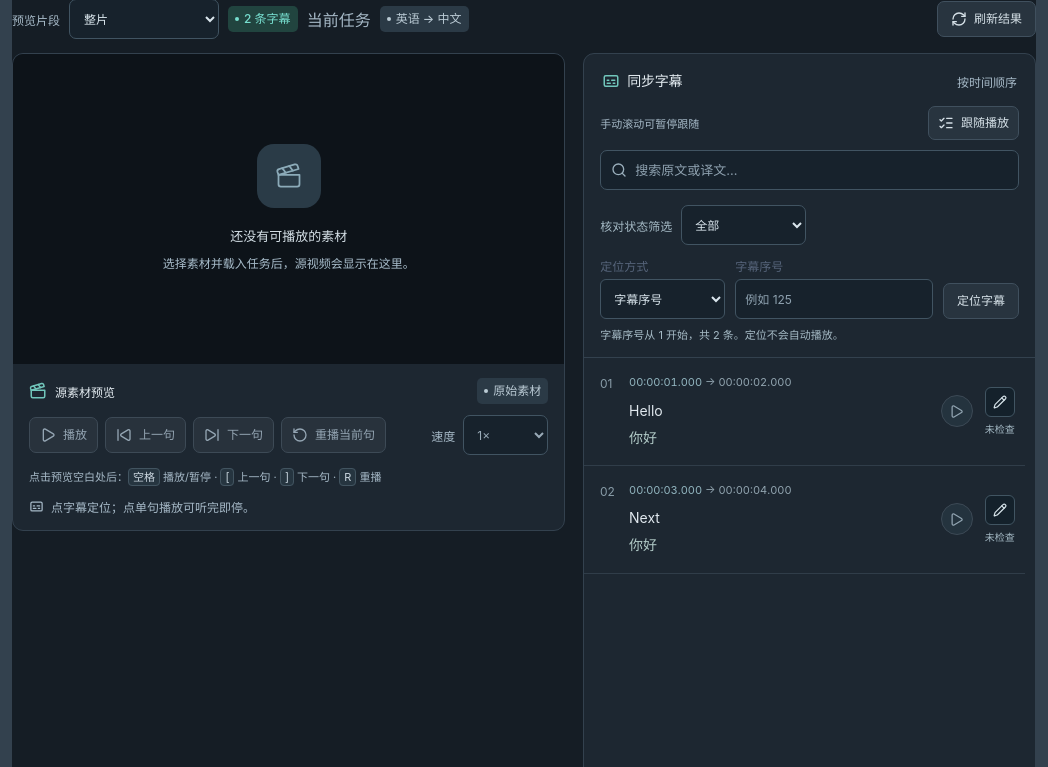
Test: compact review writes in the editor › requests one cue and advances only after the successful receipt
The image size is (1048, 767).
Click the button named "编辑第 1 句": [1000, 402] box [985,386,1015,416]
(page scrolled)
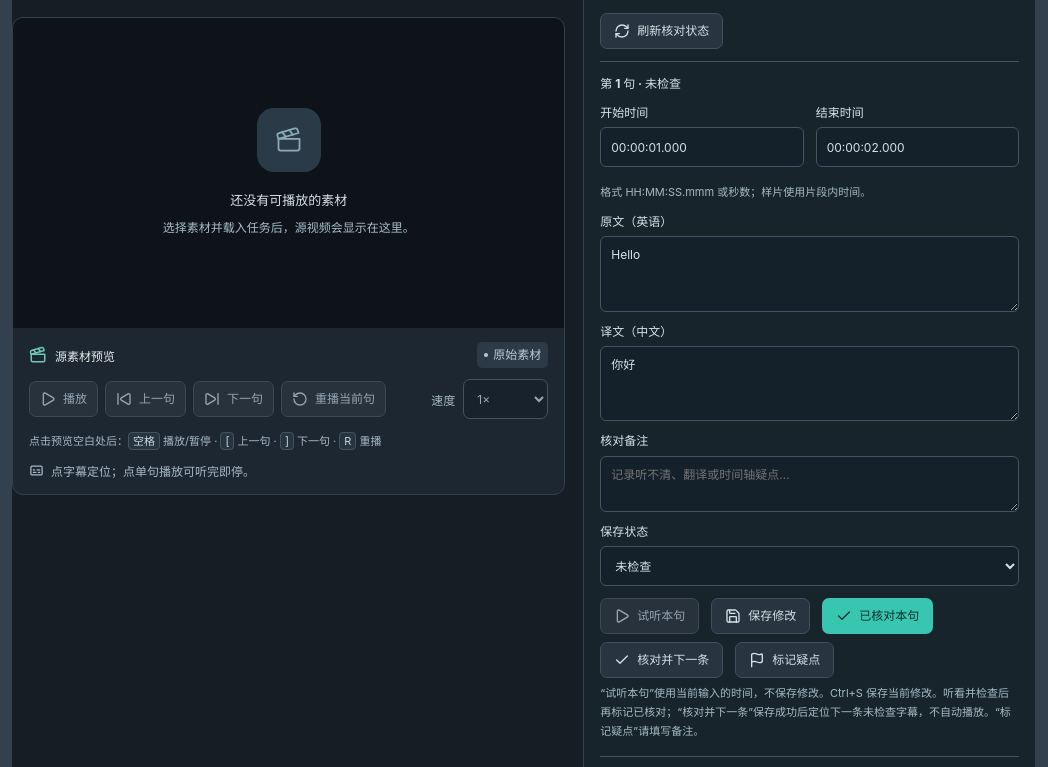
Replace the text in the text box labelled "译文（中文）" with "已修改": [810, 384] box [600,346,1019,422]
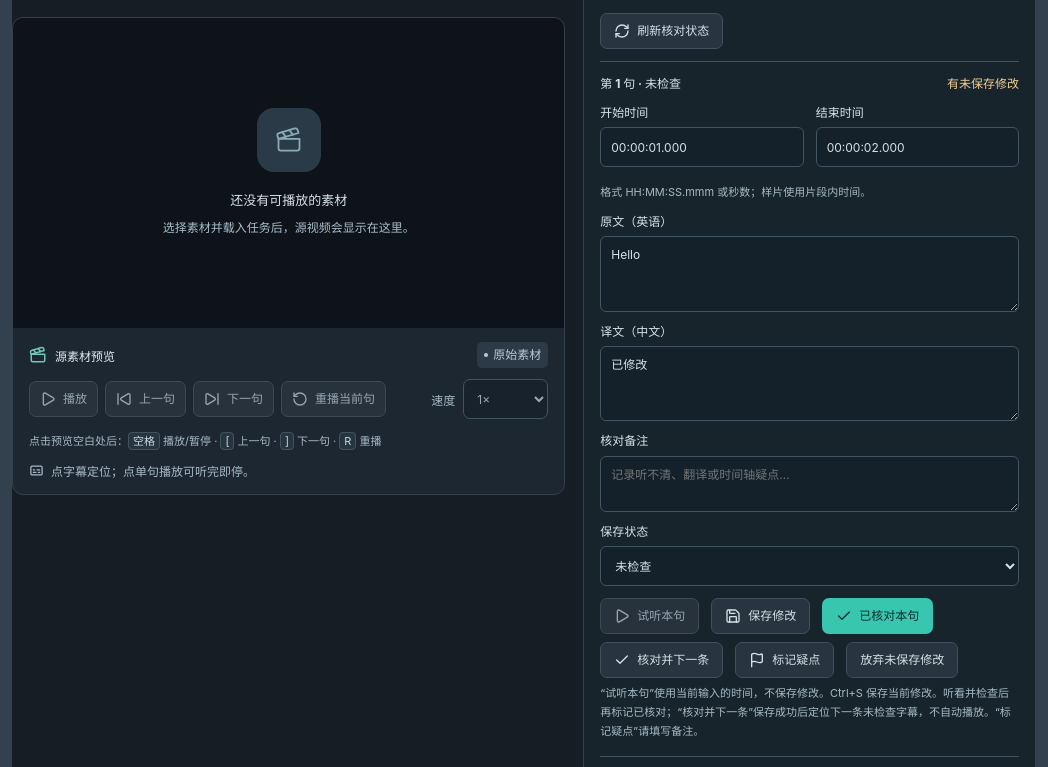
Click the button "核对并下一条": [662, 660] box [600,642,723,678]
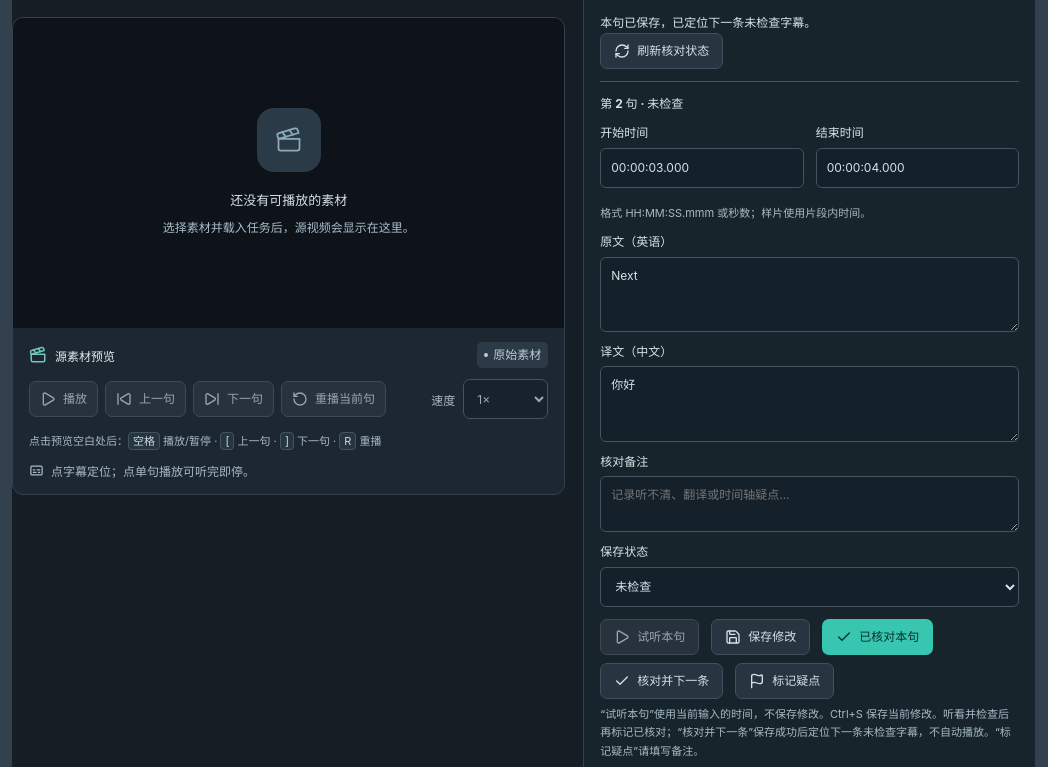
Now the text box labelled "原文（英语）" holds "Next", box [600,256,1019,332]
Now the message shows "本句已保存，已定位下一条", box [600,15,816,30]
